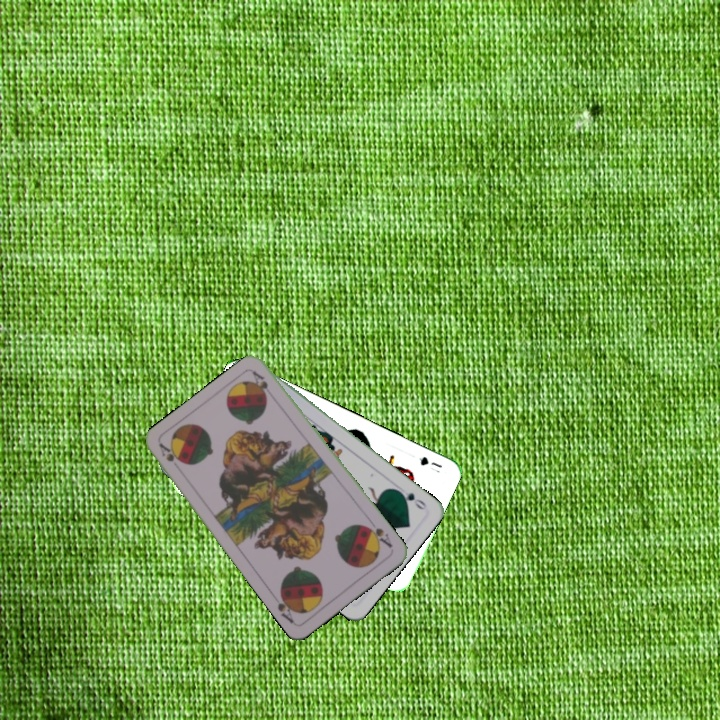GO: (393, 486, 429, 513)
GU: (415, 452, 445, 476)
SA: (361, 521, 395, 550), (155, 439, 185, 467)
